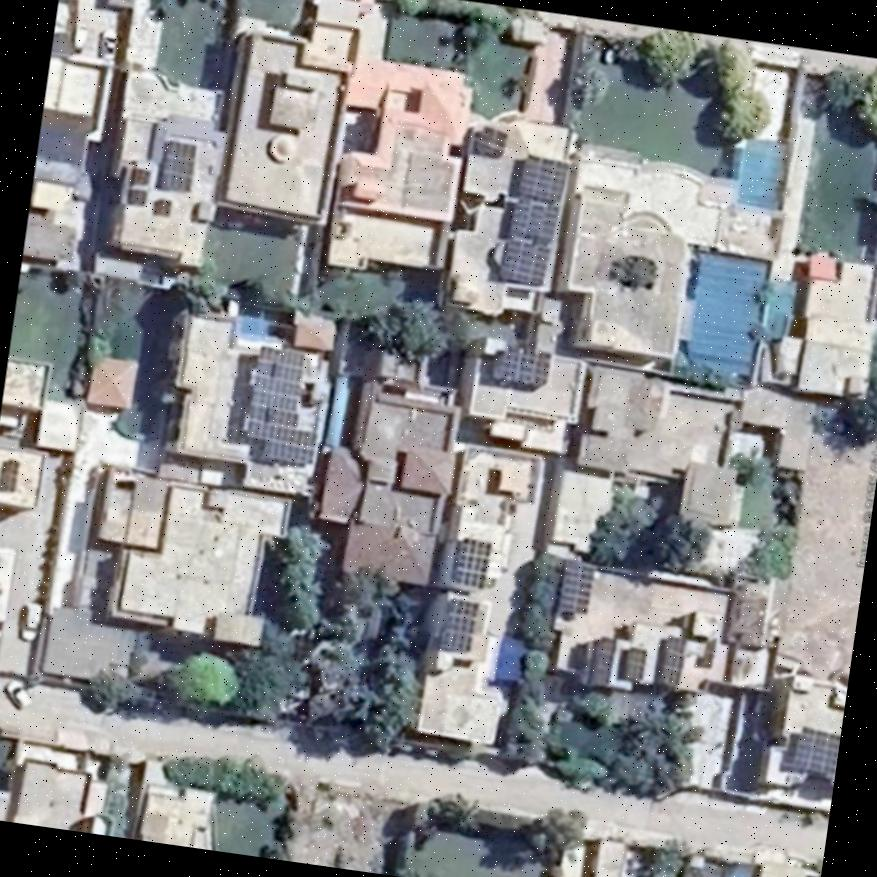Solarpanel: (244, 348, 323, 467), (516, 151, 569, 199), (435, 599, 477, 651), (794, 724, 839, 770), (497, 343, 547, 384), (159, 137, 196, 189), (513, 193, 557, 236), (501, 241, 548, 281), (454, 535, 488, 590), (561, 560, 595, 612), (588, 637, 613, 683), (660, 636, 681, 683), (621, 646, 642, 677)
